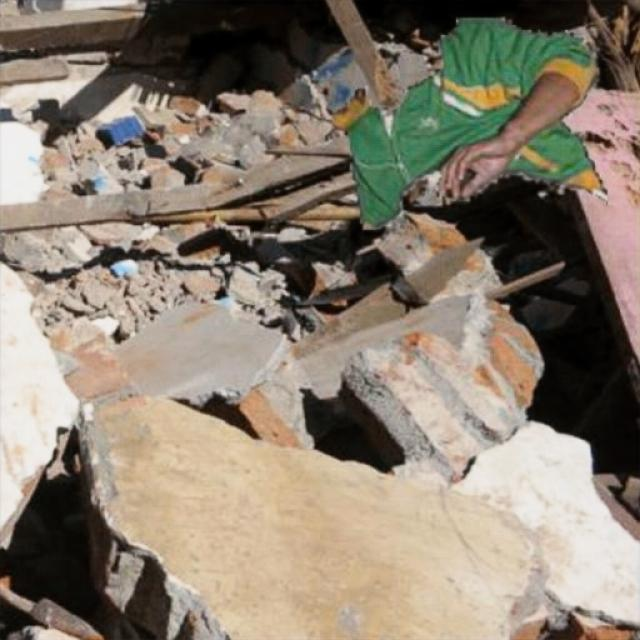Person in Rubble: (332, 18, 606, 228)
